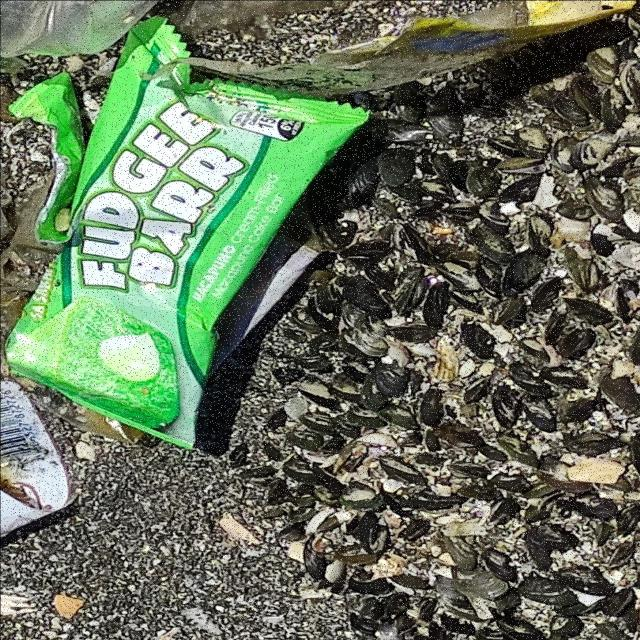plastic_waste: (3, 13, 376, 456)
